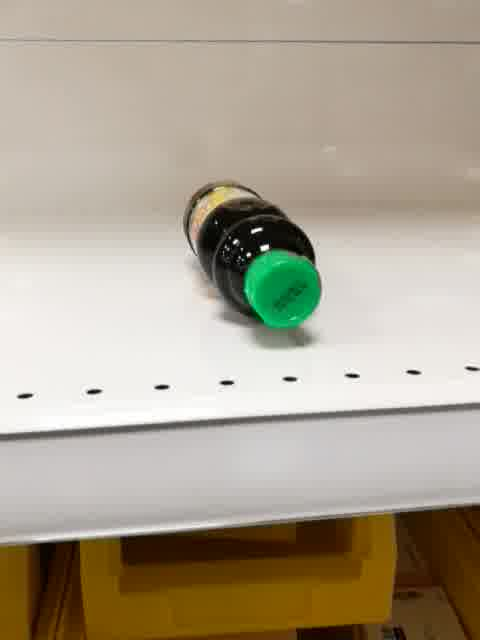cookingoil: (180, 177, 325, 332)
